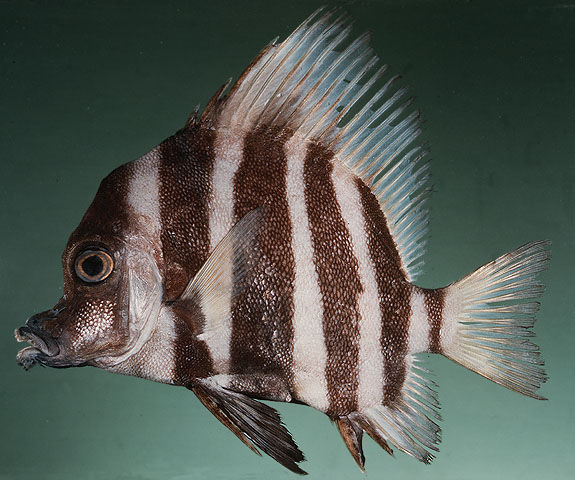fish: (14, 4, 553, 477)
